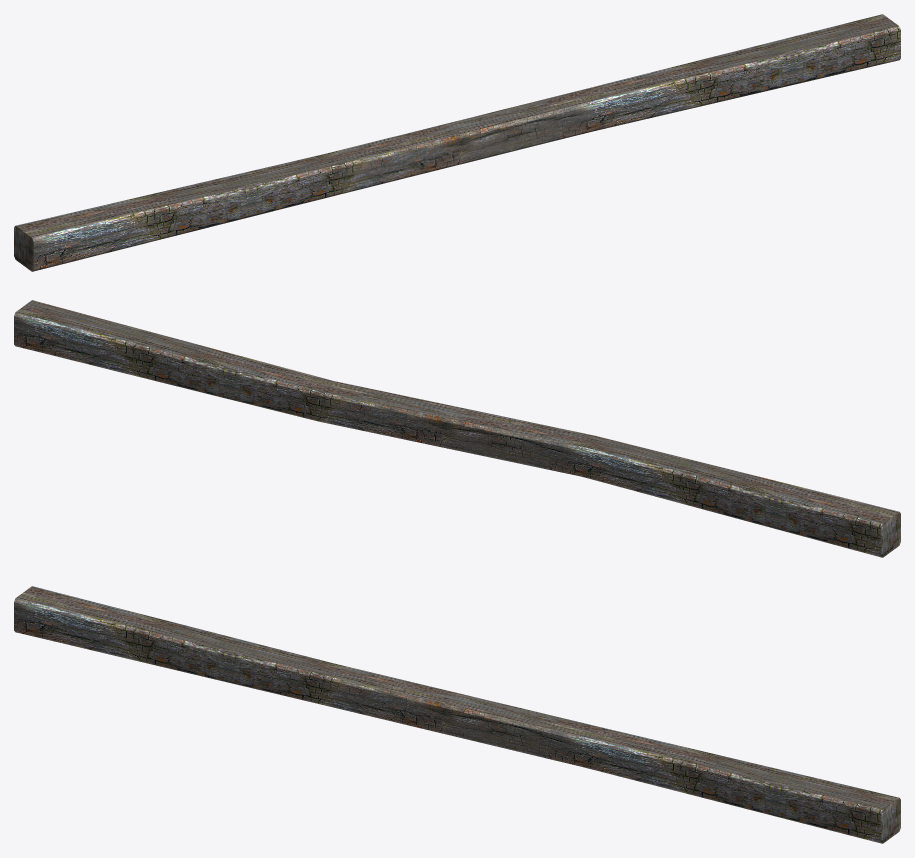
File: Wood_board_2.FBX
3 views of the same model, one above another, from view 1: azimuth 30°, elevation 25°; view 2: azimuth 150°, elevation 25°; view 3: azimuth 330°, elevation 25° (orthographic).
Parts seen in each view (by area): view 1: Box04; view 2: Box04; view 3: Box04.
Boxes of the visible parts, x1,y1,x2,y2 form: Box04: (14,14,900,271); Box04: (14,300,900,557); Box04: (14,586,900,843).
Size of the model in its own units: 563 by 21.19 by 25.59.
Materials: 1 (1 with a texture image).
